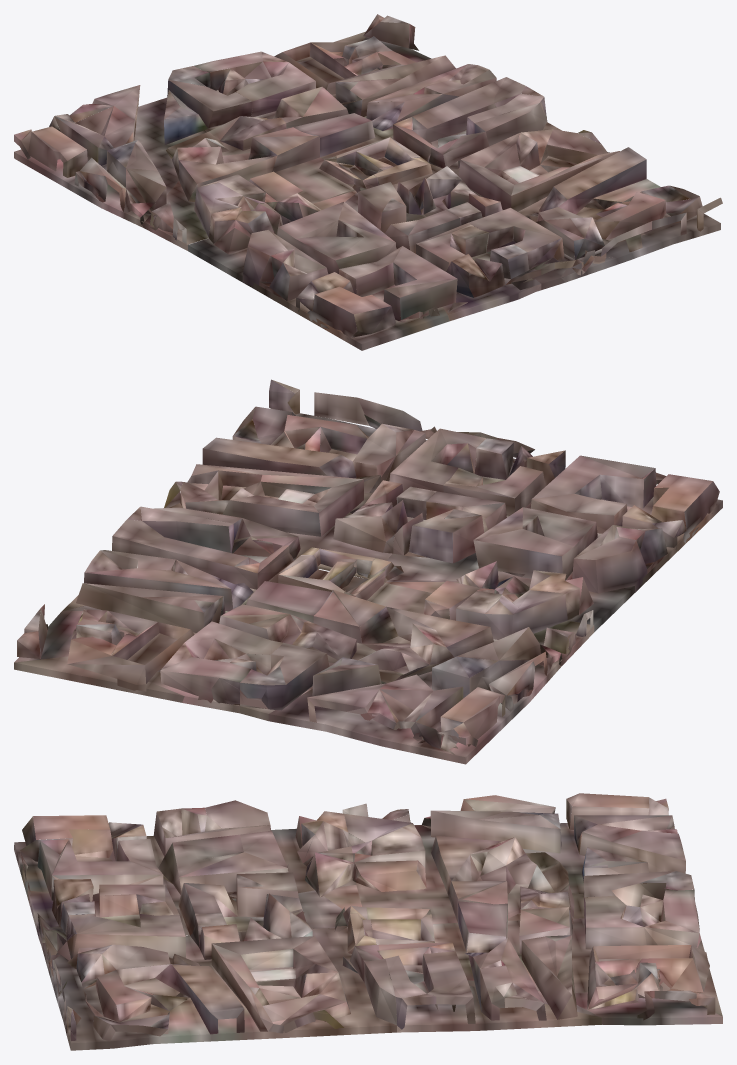
3 views of the same model, one above another, from view 1: azimuth 30°, elevation 25°; view 2: azimuth 150°, elevation 25°; view 3: azimuth 270°, elevation 25° (orthographic). The views are drawn at different scales.
Parts seen in each view (by area): view 1: Mesh_0; view 2: Mesh_0; view 3: Mesh_0.
Part boxes in pixels (<box>): Mesh_0: <box>14,14,722,350</box>; Mesh_0: <box>14,379,722,764</box>; Mesh_0: <box>14,793,722,1050</box>.
Size of the model in its own units: 535 by 61.73 by 659.
2 materials, 2 textured.
